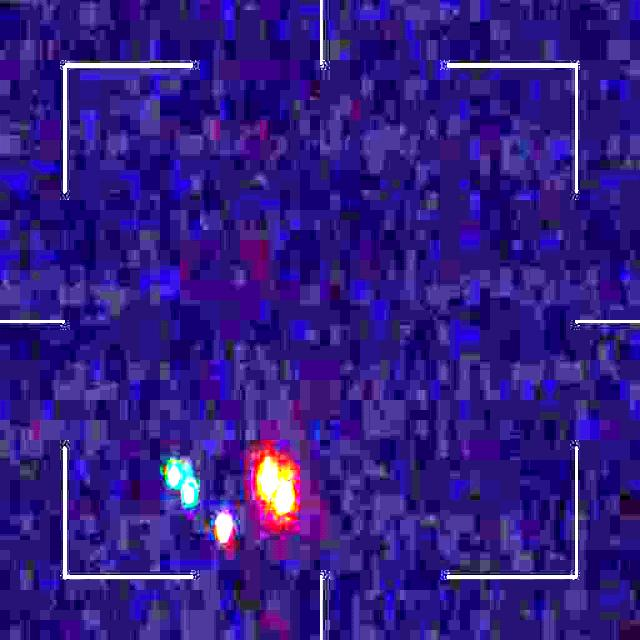bird: (168, 456, 294, 545)
